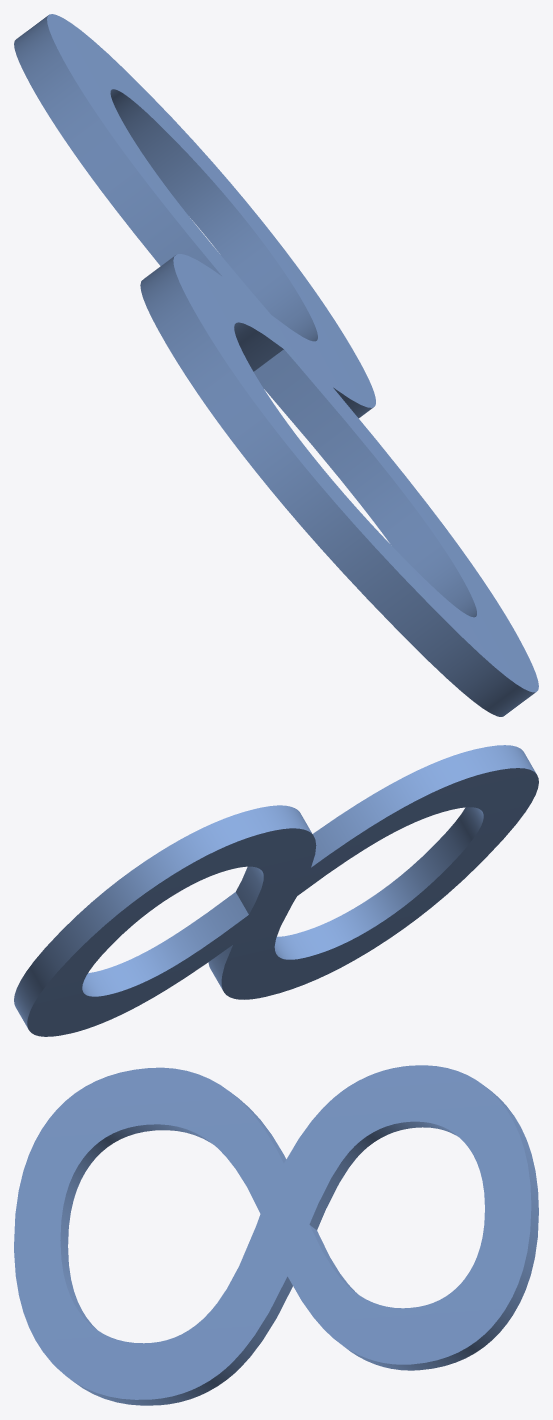
File: New_Number_8.gltf
The picture shows the model from 3 angles, top to bottom: view 1: azimuth 30°, elevation 25°; view 2: azimuth 150°, elevation 25°; view 3: azimuth 270°, elevation 25°; orthographic projection. The views are drawn at different scales.
Parts seen in each view (by area): view 1: Part 665; view 2: Part 665; view 3: Part 665.
Boxes of the visible parts, x1=… form: Part 665: x1=14, y1=14, x2=538, y2=716; Part 665: x1=14, y1=745, x2=538, y2=1036; Part 665: x1=14, y1=1065, x2=538, y2=1405.
Bounding box in the file's own units: 0.00307 × 0.00335 × 0.00554.
